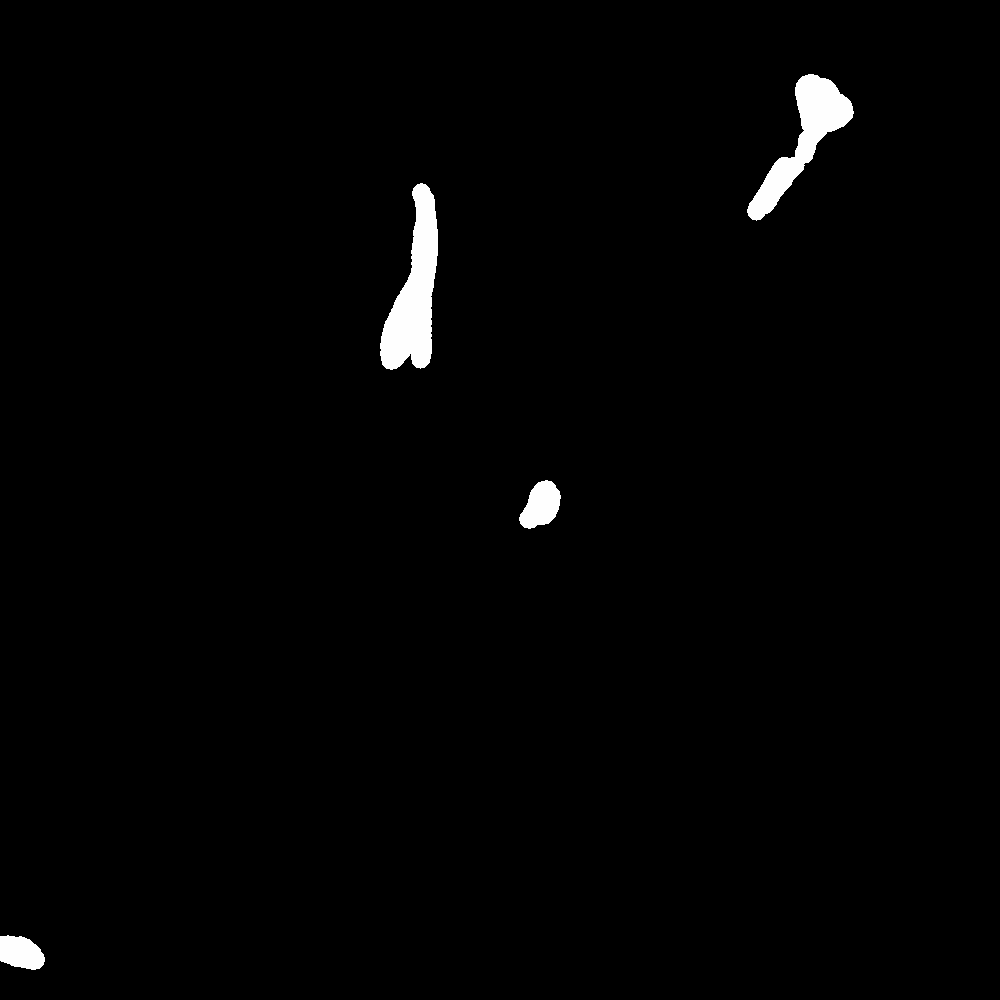illegal: (378, 169, 451, 371), (507, 480, 568, 531), (799, 77, 852, 132), (1, 934, 50, 979), (756, 155, 797, 203)
